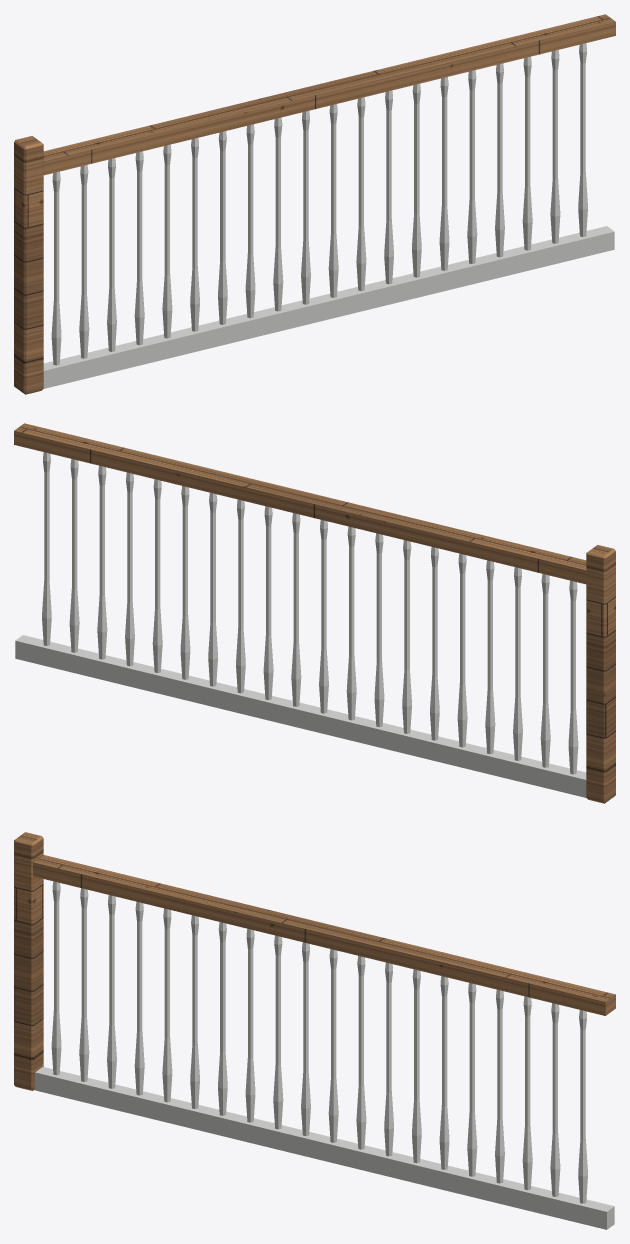
Rendered from rail_260.glb.
The picture shows the model from 3 angles, top to bottom: view 1: azimuth 30°, elevation 25°; view 2: azimuth 150°, elevation 25°; view 3: azimuth 330°, elevation 25°; orthographic projection.
Visible parts, largest first — view 1: rail_260_trim, rail_260_floor; view 2: rail_260_trim, rail_260_floor; view 3: rail_260_trim, rail_260_floor.
Boxes of the visible parts, box(x1,y1,x2,y2) form: rail_260_trim: box(43, 43, 614, 388); rail_260_floor: box(14, 14, 615, 394); rail_260_trim: box(15, 452, 586, 797); rail_260_floor: box(14, 423, 615, 803); rail_260_trim: box(34, 881, 614, 1229); rail_260_floor: box(14, 832, 615, 1090).
Bounding box in the file's own units: 2.64 × 1.06 × 0.09.
Materials: 2 (1 with a texture image).
